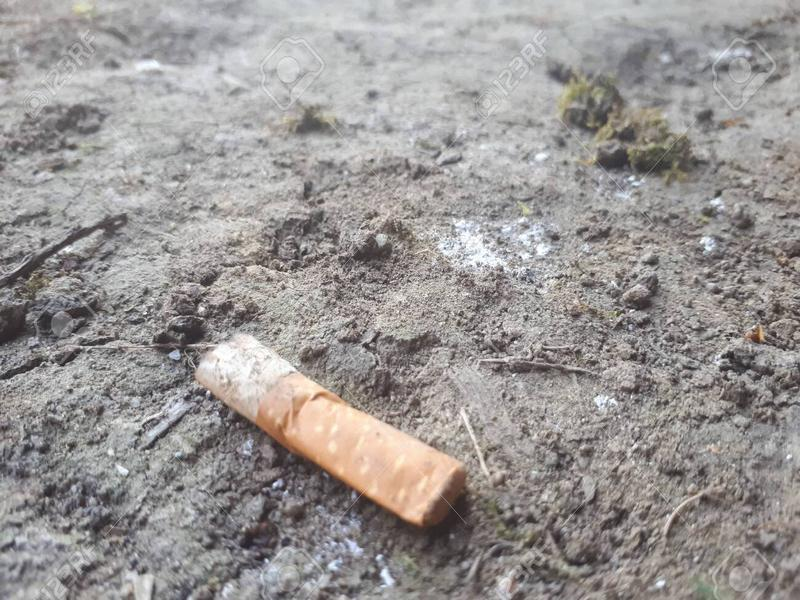burned_cigarette: (187, 327, 470, 534)
